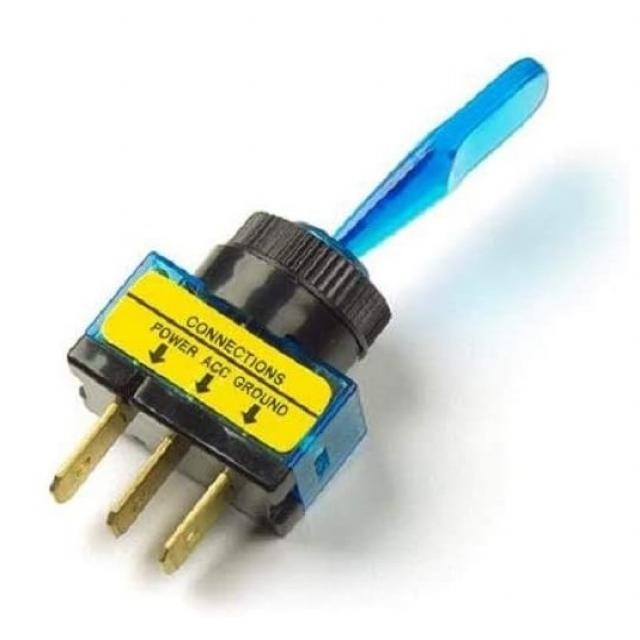toggle switch: (217, 55, 543, 355)
